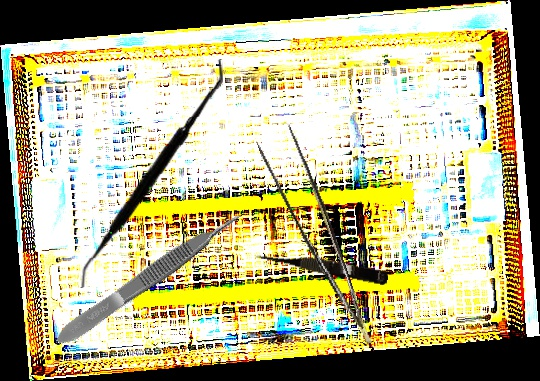Micro Scissor: (252, 245, 390, 286)
Spatula Surgical: (78, 54, 224, 293)
Tissue Forceps: (253, 120, 373, 357), (51, 207, 248, 350)
